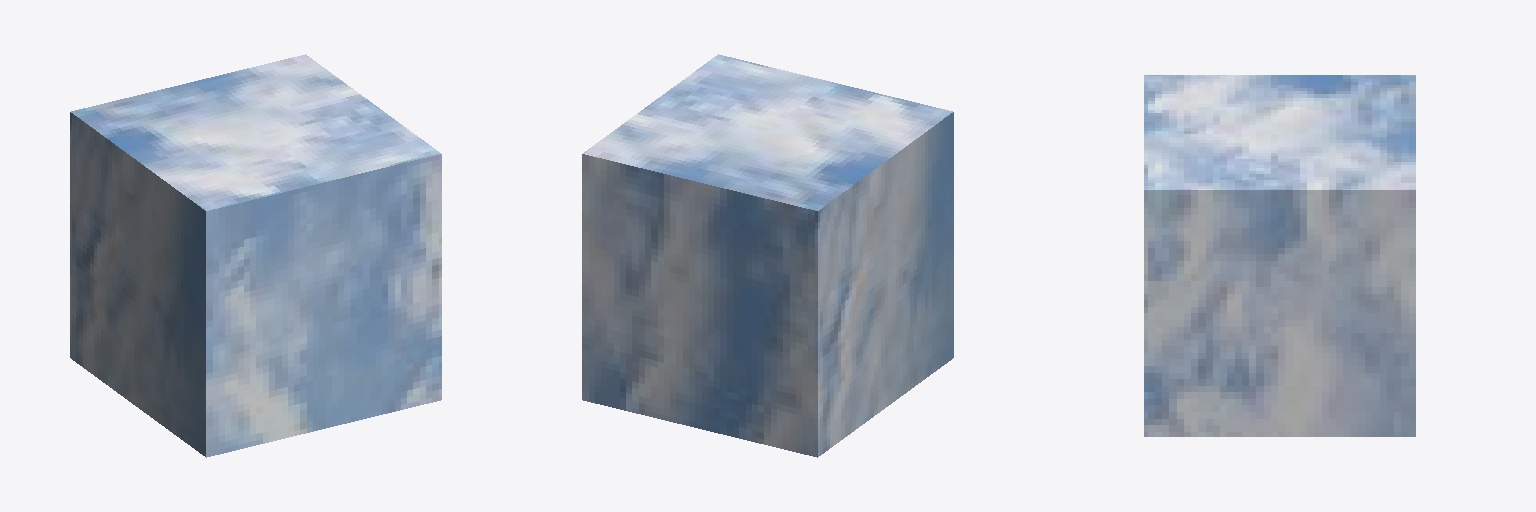
3 views of the same model, side by side, from view 1: azimuth 30°, elevation 25°; view 2: azimuth 150°, elevation 25°; view 3: azimuth 270°, elevation 25° (orthographic).
Parts seen in each view (by area): view 1: Cube; view 2: Cube; view 3: Cube.
Boxes of the visible parts, x1=… form: Cube: x1=70, y1=54, x2=441, y2=457; Cube: x1=582, y1=54, x2=953, y2=457; Cube: x1=1144, y1=75, x2=1415, y2=436.
Bounding box in the file's own units: 2 × 2 × 2.
Materials: 1 (1 with a texture image).